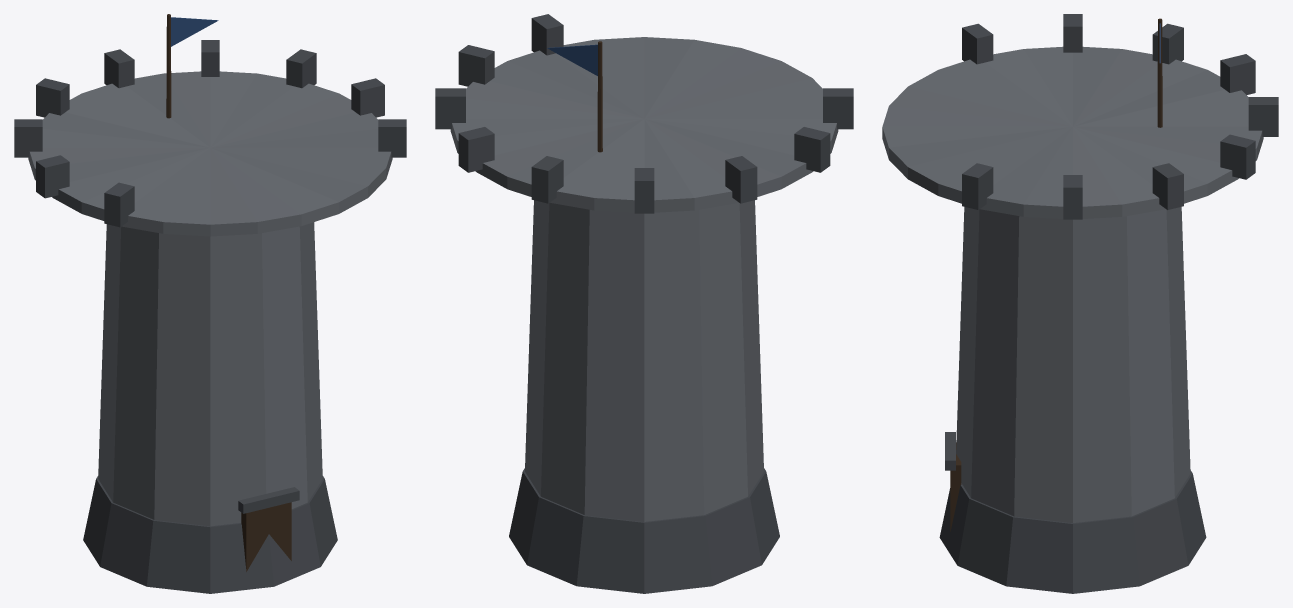
The model's file is tower_highland.glb.
3 views of the same model, side by side, from view 1: azimuth 30°, elevation 25°; view 2: azimuth 150°, elevation 25°; view 3: azimuth 270°, elevation 25° (orthographic). The views are drawn at different scales.
Parts seen in each view (by area): view 1: tower_highland; view 2: tower_highland; view 3: tower_highland.
Boxes of the visible parts, bbox=[...] form: tower_highland: bbox=[14, 14, 406, 593]; tower_highland: bbox=[435, 14, 853, 593]; tower_highland: bbox=[882, 14, 1278, 593].
Bounding box in the file's own units: 15.1 × 21 × 14.55.
